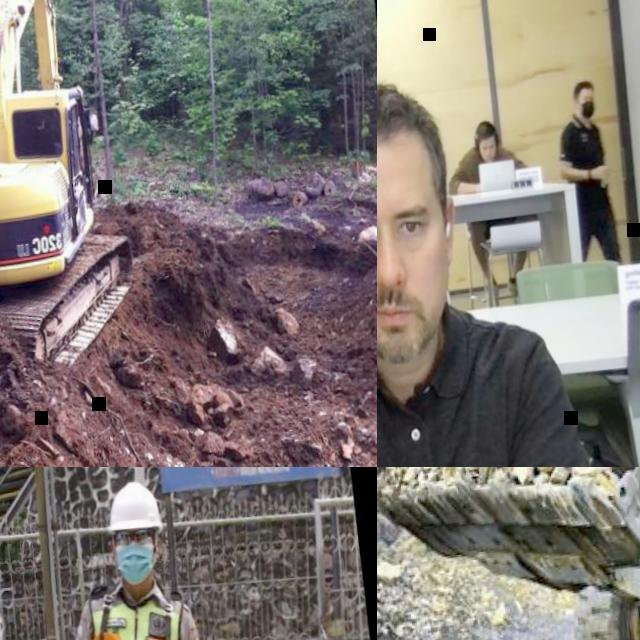Hardhat: (102, 480, 162, 535)
Mask: (111, 535, 162, 587), (579, 102, 597, 116)
NO-Hardhat: (377, 73, 444, 178), (474, 119, 498, 139), (572, 77, 593, 96)
NO-Mask: (377, 285, 442, 365), (481, 147, 495, 160)
NO-Safety Vest: (377, 325, 533, 467), (566, 122, 616, 225), (464, 146, 506, 184)
Person: (377, 58, 611, 467), (25, 472, 272, 640), (441, 115, 543, 300), (550, 72, 624, 259)
Safety Vest: (68, 582, 202, 640)
vehicle: (0, 0, 147, 401), (377, 467, 640, 640)
